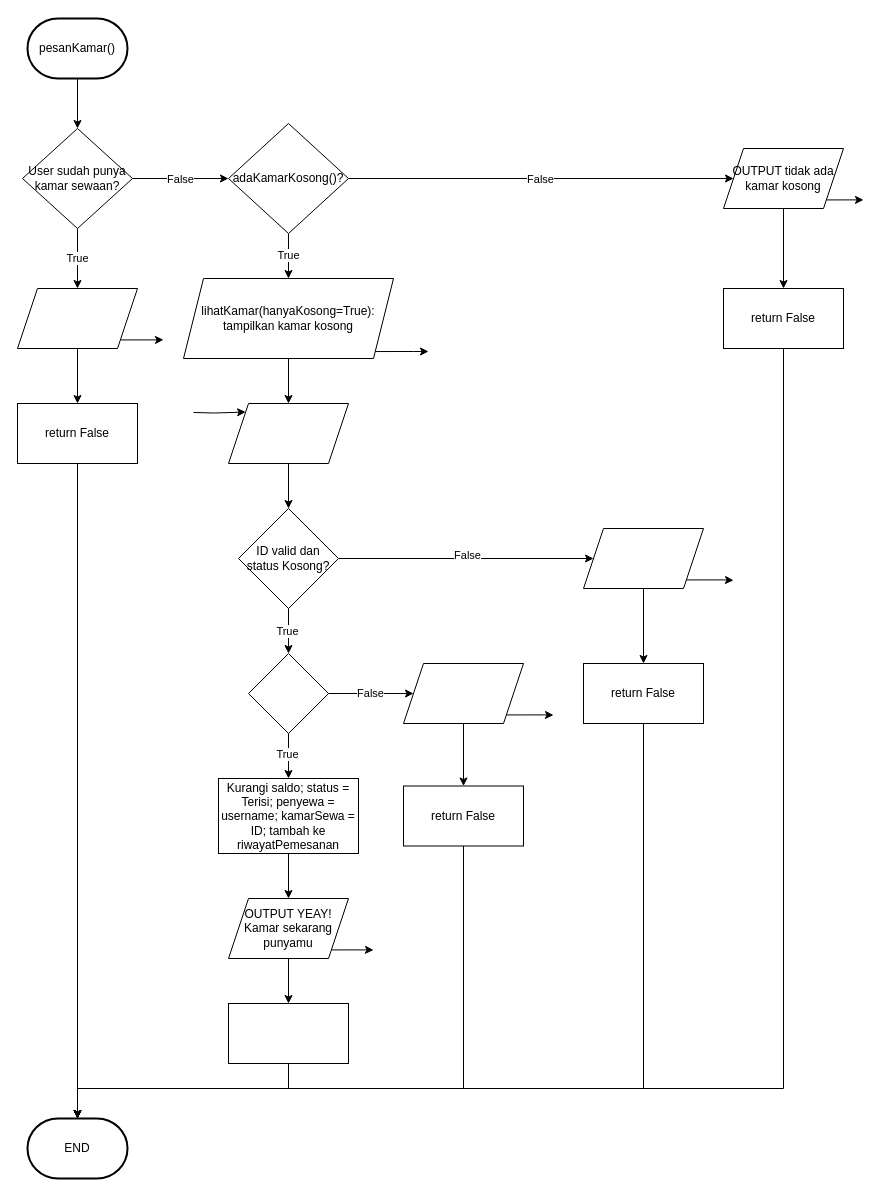
The diagram is 889 pixels wide and 1196 high, and some of its shapes have lost their labels. Each missing label, with the centre of its shape:
inputIdKamar(): input ID kamar: (288,433)
OUTPUT id tidak valid / status terisi: (643,558)
OUTPUT saldo tidak mencukupi: (463,693)
OUTPUT sudah punya kamar: (77,318)
return True: (288,1033)
saldo ≥ harga kamar?: (288,693)
